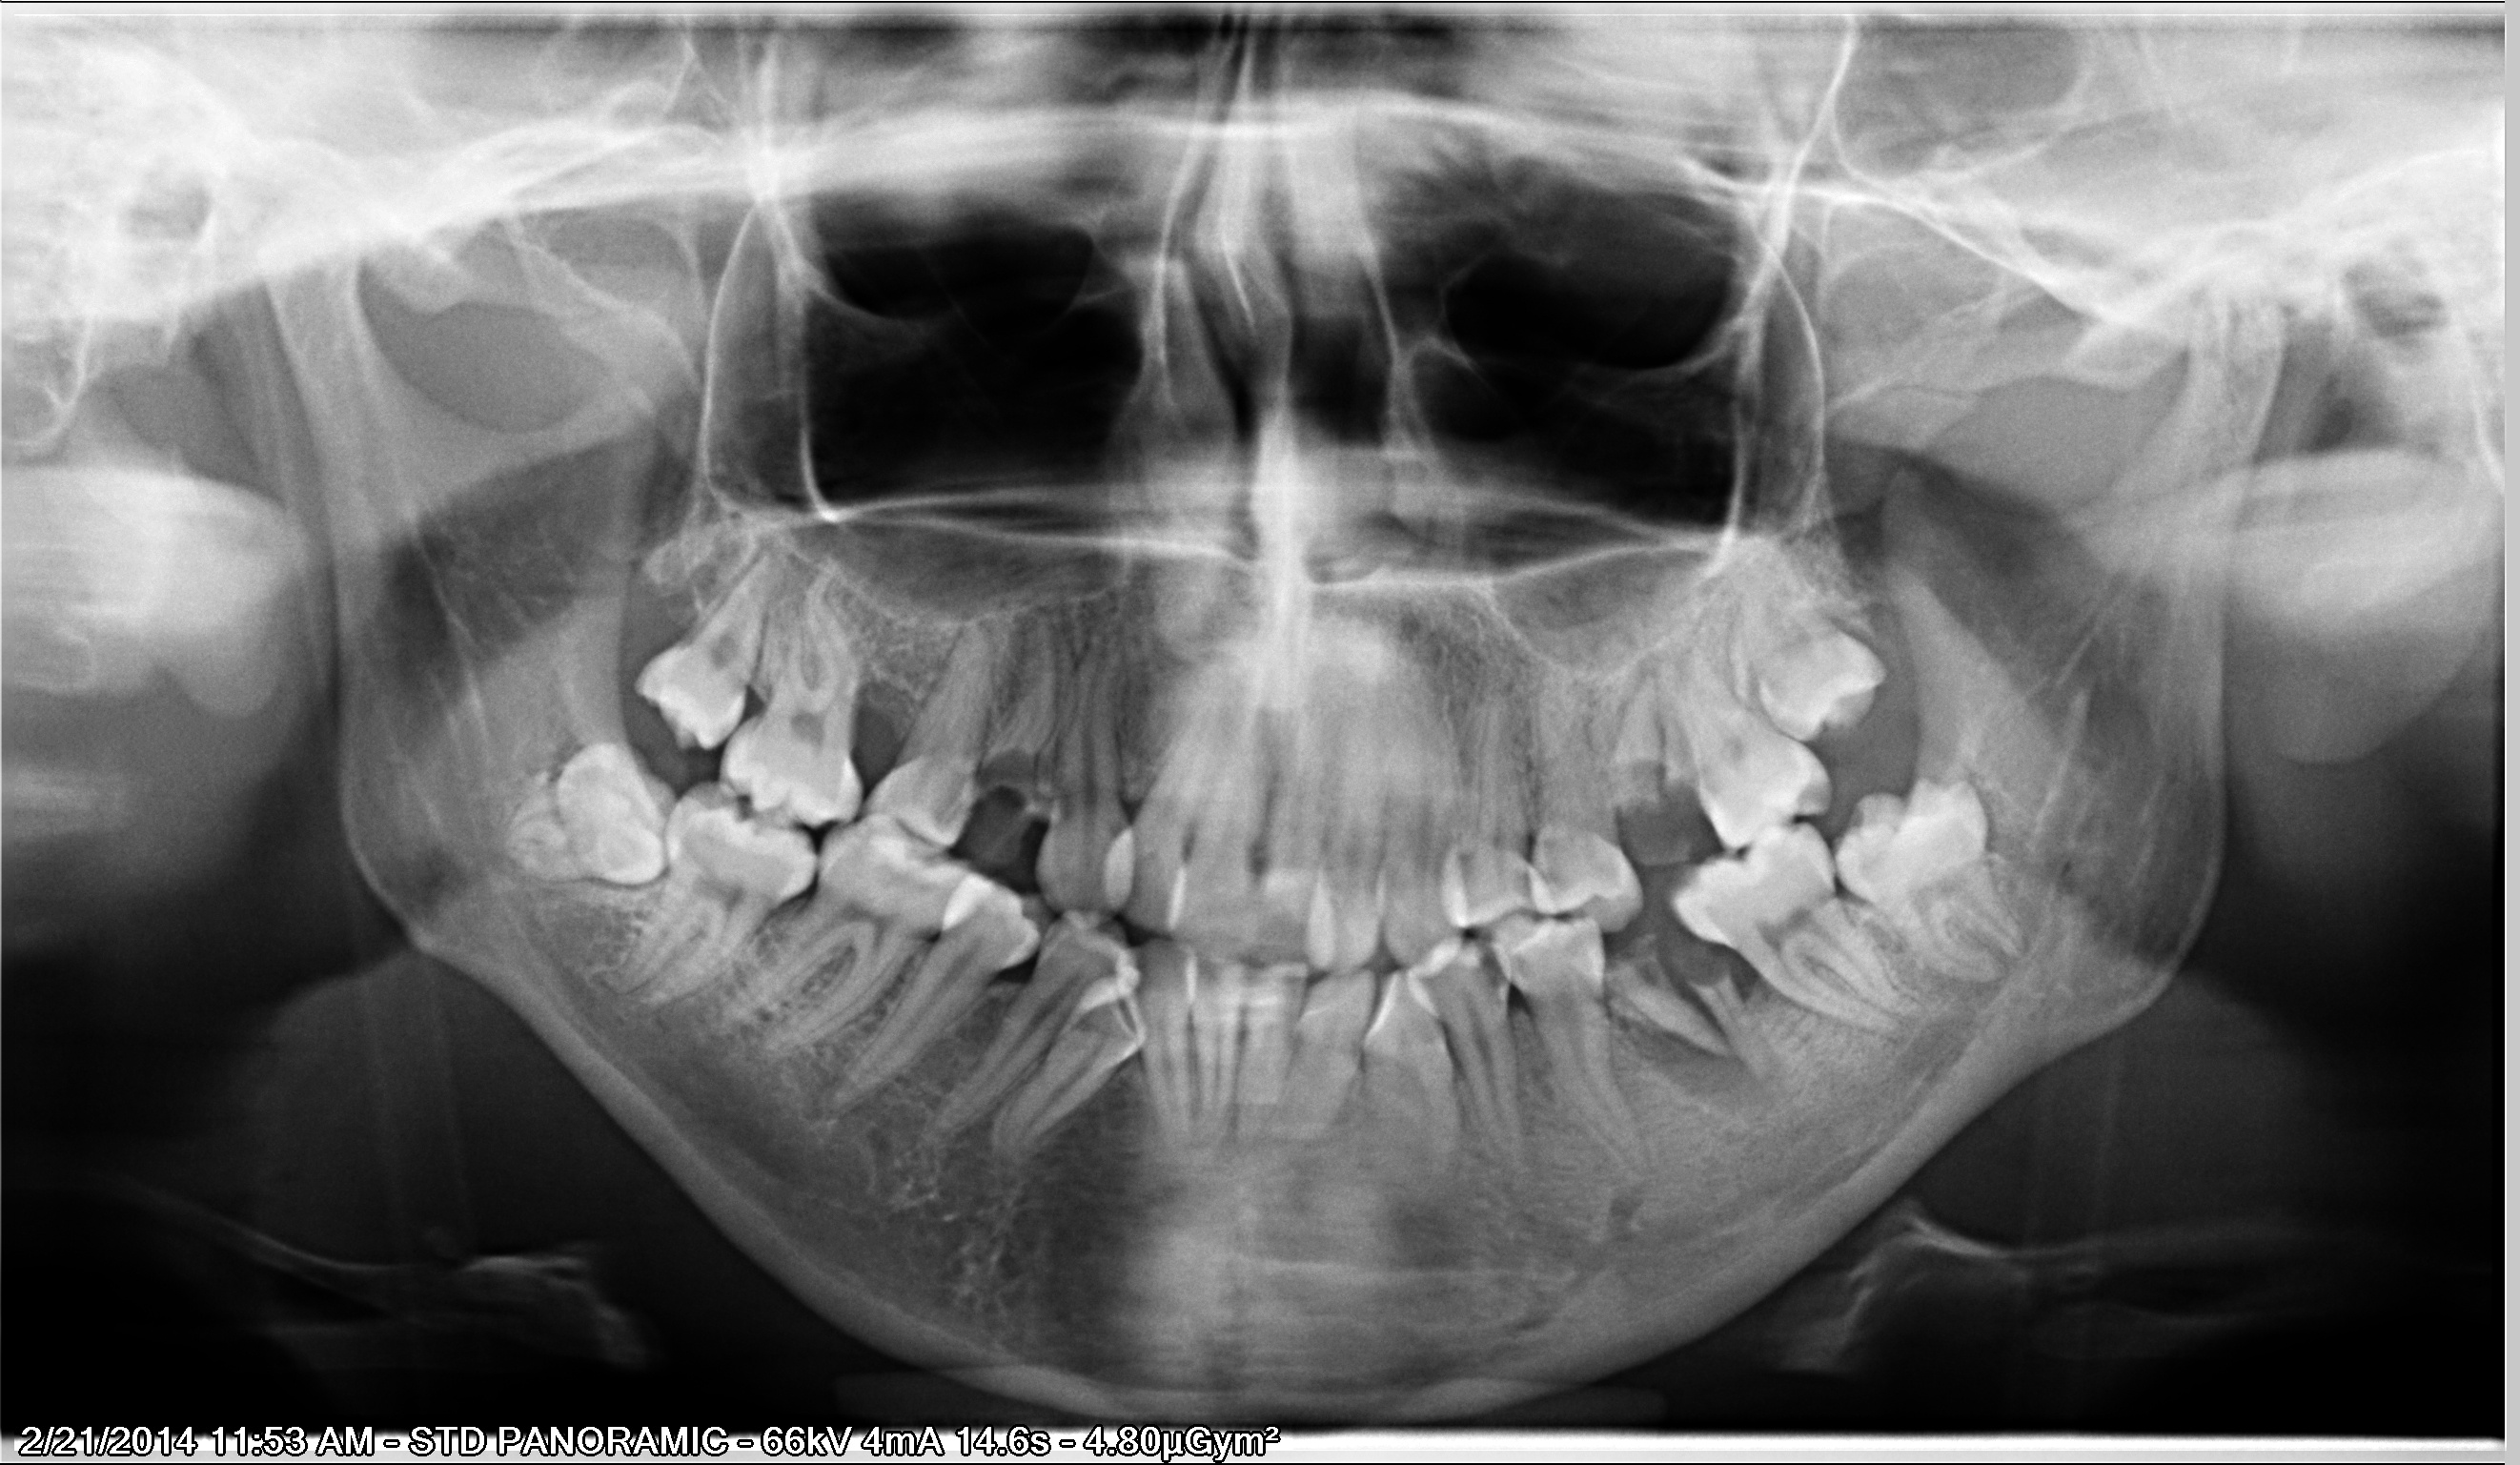CAR: (952, 732, 1076, 881), (1597, 792, 1709, 872)
IMT: (1829, 746, 2054, 1015), (1704, 549, 1927, 764), (485, 710, 706, 917)
ROT: (1646, 921, 1801, 1100), (1566, 945, 1753, 1083)
